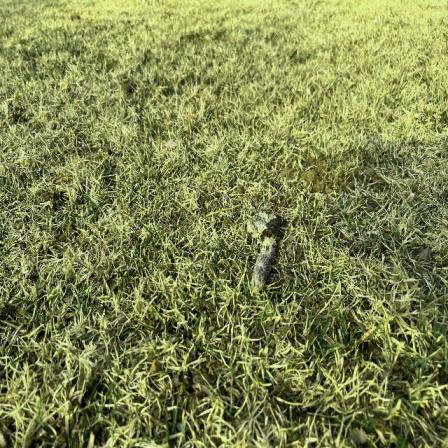dog-poop: (248, 212, 281, 293)
